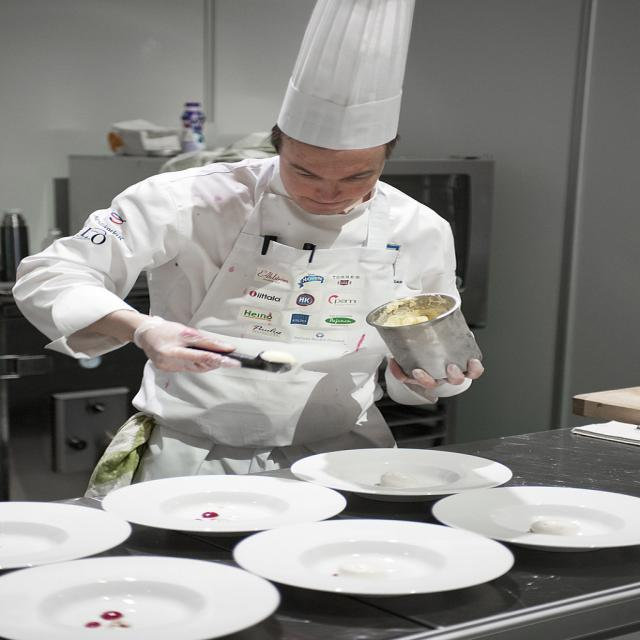ceramic plate: (227, 514, 528, 602), (92, 472, 328, 544), (298, 442, 506, 512)
